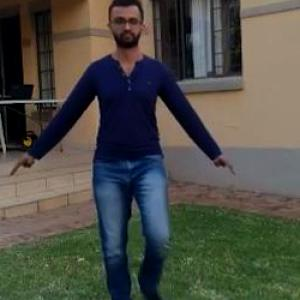land: (15, 0, 248, 299)
